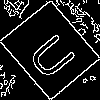U: (25, 24, 86, 83)
